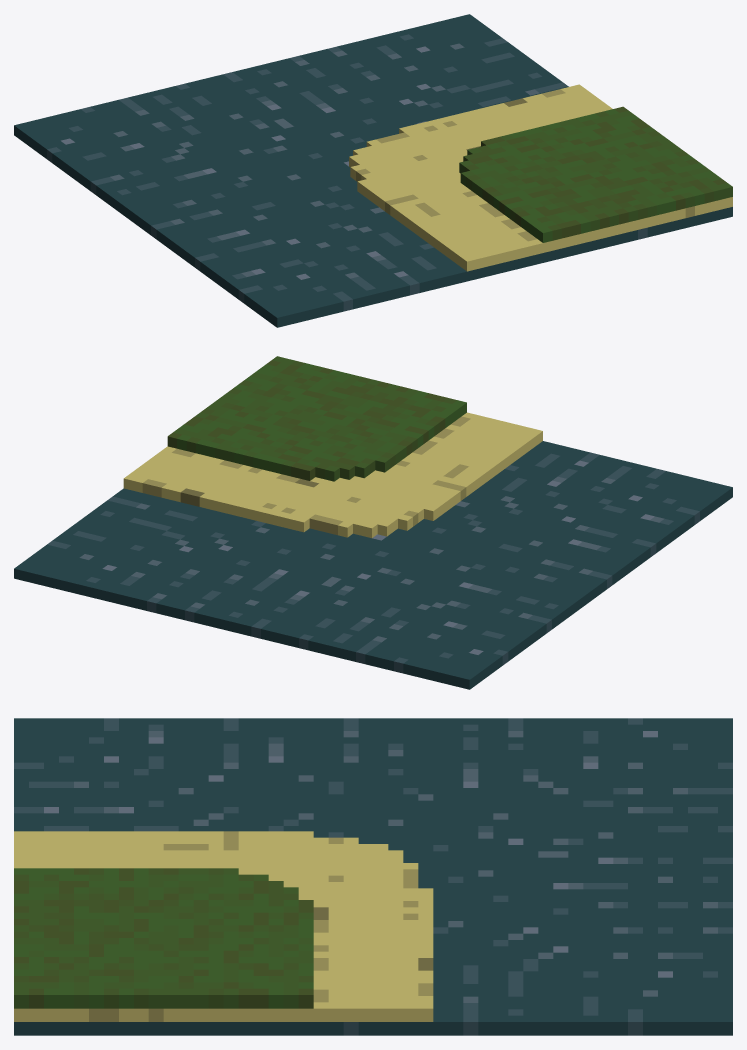
The model's file is tile-1-shore_grass_corner.obj.
The picture shows the model from 3 angles, top to bottom: view 1: azimuth 30°, elevation 25°; view 2: azimuth 150°, elevation 25°; view 3: azimuth 270°, elevation 25°; orthographic projection. The views are drawn at different scales.
Visible parts, largest first — view 1: shore_grass_corner; view 2: shore_grass_corner; view 3: shore_grass_corner.
Boxes of the visible parts, box(x1,y1,x2,y2) form: shore_grass_corner: box(14, 14, 732, 327); shore_grass_corner: box(14, 356, 732, 689); shore_grass_corner: box(14, 718, 732, 1035).
Bounding box in the file's own units: 4.8 × 0.3 × 4.8.
Materials: 1 (1 with a texture image).
